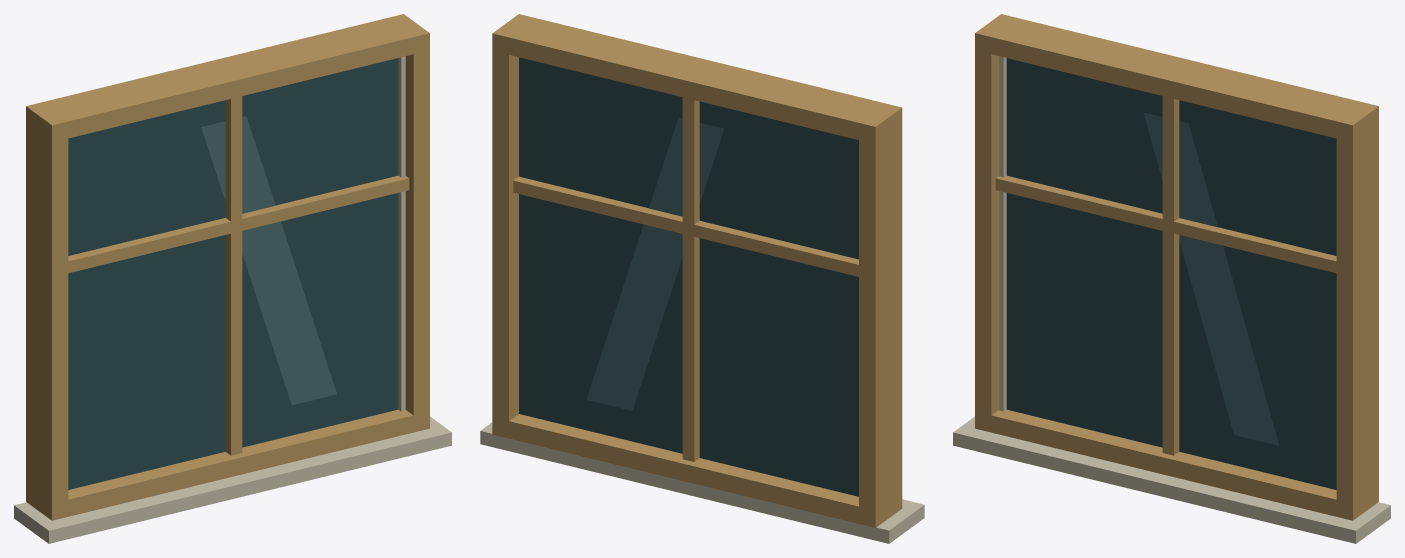
The model's file is Window_Museum_150x150.fbx.
The picture shows the model from 3 angles, left to right: view 1: azimuth 30°, elevation 25°; view 2: azimuth 150°, elevation 25°; view 3: azimuth 330°, elevation 25°; orthographic projection.
Parts seen in each view (by area): view 1: M_Window_OpaqueGlass, AgedBrass, M_Central_Limestone, M_Window_GlassSheen; view 2: M_Window_OpaqueGlass, AgedBrass, M_Window_GlassSheen, M_Central_Limestone; view 3: M_Window_OpaqueGlass, AgedBrass, M_Central_Limestone, M_Window_GlassSheen.
Part boxes in pixels (x1=…): M_Window_OpaqueGlass: x1=68, y1=58, x2=398, y2=489; AgedBrass: x1=26, y1=14, x2=429, y2=520; M_Central_Limestone: x1=14, y1=56, x2=451, y2=543; M_Window_GlassSheen: x1=201, y1=116, x2=336, y2=405; M_Window_OpaqueGlass: x1=519, y1=57, x2=858, y2=496; AgedBrass: x1=492, y1=14, x2=902, y2=527; M_Window_GlassSheen: x1=586, y1=117, x2=724, y2=410; M_Central_Limestone: x1=480, y1=422, x2=924, y2=543; M_Window_OpaqueGlass: x1=1006, y1=58, x2=1336, y2=489; AgedBrass: x1=975, y1=14, x2=1378, y2=520; M_Central_Limestone: x1=953, y1=56, x2=1390, y2=543; M_Window_GlassSheen: x1=1143, y1=112, x2=1279, y2=445.
Bounding box in the file's own units: 160 × 155 × 24.5.
